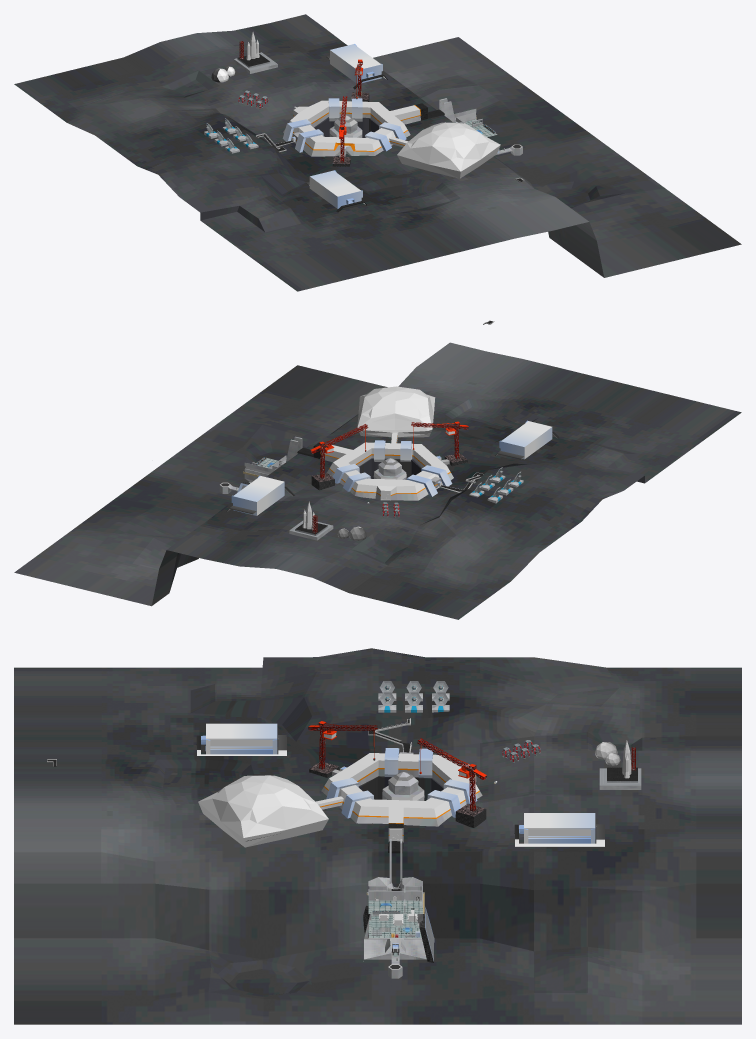
The model's file is SlidinDoor Textured .fbx.
3 renders of one model, top to bottom at view 1: azimuth 30°, elevation 25°; view 2: azimuth 150°, elevation 25°; view 3: azimuth 270°, elevation 25°, orthographic. The views are drawn at different scales.
Visible parts, largest first — view 1: Ground, Core, Greenhouse, Warehouse.001, Warehouse, Cube.014, Base, Radar array, Launchpad, Cube.015, Crane.002; view 2: Ground, Core, Greenhouse, Warehouse, Warehouse.001, Base, Cube.014, Crane.001, Radar array, Crane.002, Launchpad, Cube.015; view 3: Ground, Core, Greenhouse, Base, Warehouse, Warehouse.001, Cube.014, Radar array, Crane.001, Crane.002, Launchpad, Cube.015.
Boxes of the visible parts, left/top/right/bottom form: Ground: left=14, top=14, right=741, bottom=291; Core: left=255, top=100, right=444, bottom=156; Greenhouse: left=397, top=122, right=500, bottom=178; Warehouse.001: left=306, top=170, right=366, bottom=212; Warehouse: left=326, top=44, right=387, bottom=89; Cube.014: left=328, top=98, right=406, bottom=151; Base: left=439, top=98, right=522, bottom=155; Radar array: left=204, top=118, right=258, bottom=153; Launchpad: left=234, top=41, right=277, bottom=73; Cube.015: left=282, top=119, right=323, bottom=152; Crane.002: left=332, top=96, right=350, bottom=166; Ground: left=14, top=342, right=741, bottom=619; Core: left=297, top=432, right=483, bottom=500; Greenhouse: left=357, top=386, right=435, bottom=437; Warehouse: left=226, top=475, right=294, bottom=515; Warehouse.001: left=495, top=420, right=559, bottom=459; Base: left=219, top=436, right=302, bottom=493; Cube.014: left=332, top=440, right=411, bottom=491; Crane.001: left=310, top=424, right=368, bottom=490; Radar array: left=469, top=467, right=523, bottom=503; Crane.002: left=411, top=421, right=468, bottom=466; Launchpad: left=289, top=515, right=333, bottom=540; Cube.015: left=407, top=465, right=452, bottom=496; Ground: left=14, top=648, right=741, bottom=1024; Core: left=316, top=718, right=482, bottom=853; Greenhouse: left=198, top=775, right=328, bottom=847; Base: left=363, top=839, right=434, bottom=978; Warehouse: left=514, top=813, right=604, bottom=846; Warehouse.001: left=196, top=723, right=286, bottom=755; Cube.014: left=326, top=778, right=477, bottom=818; Radar array: left=378, top=681, right=449, bottom=712; Crane.001: left=417, top=738, right=486, bottom=828; Crane.002: left=308, top=721, right=377, bottom=777; Launchpad: left=599, top=747, right=641, bottom=789; Cube.015: left=384, top=748, right=433, bottom=777.
Size of the model in its own units: 34449 by 10638 by 38052.
